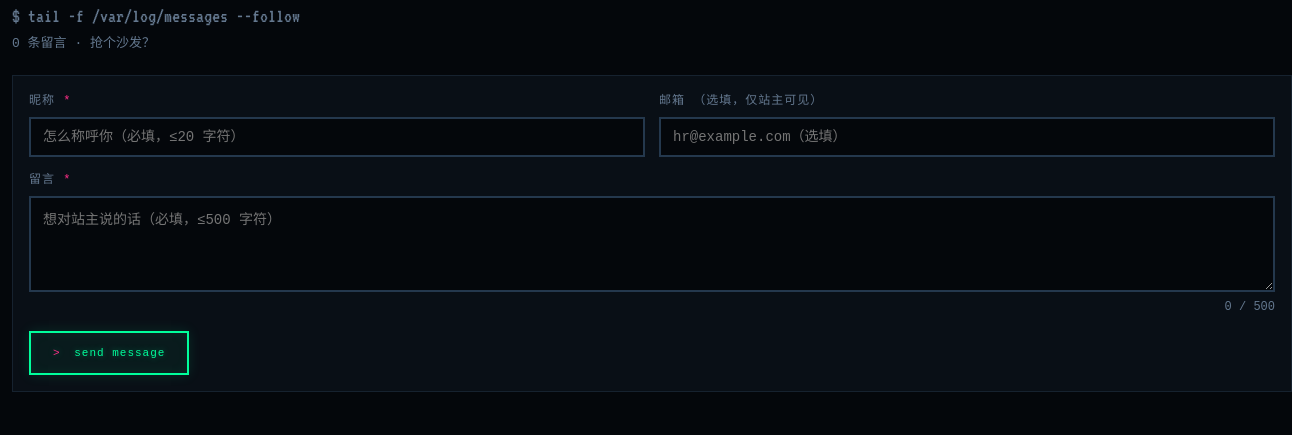
Test case: 前端预校验（后端 400 双保险的前一道闸） › 内容为空提交：字段错误提示且不调提交接口
Type "访客" into the field named "nickname" at (337, 137), box [29,117,645,157]
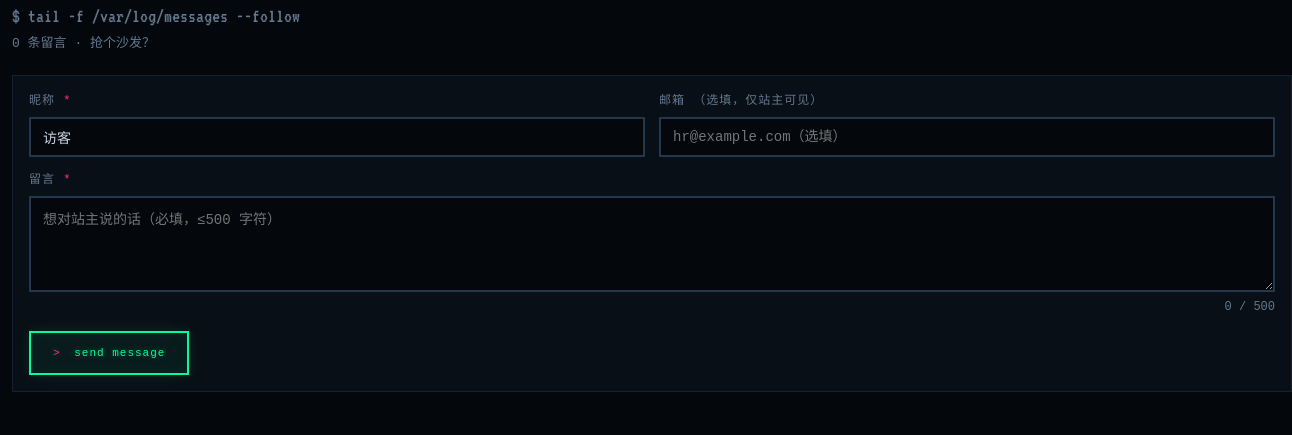
Submit the form
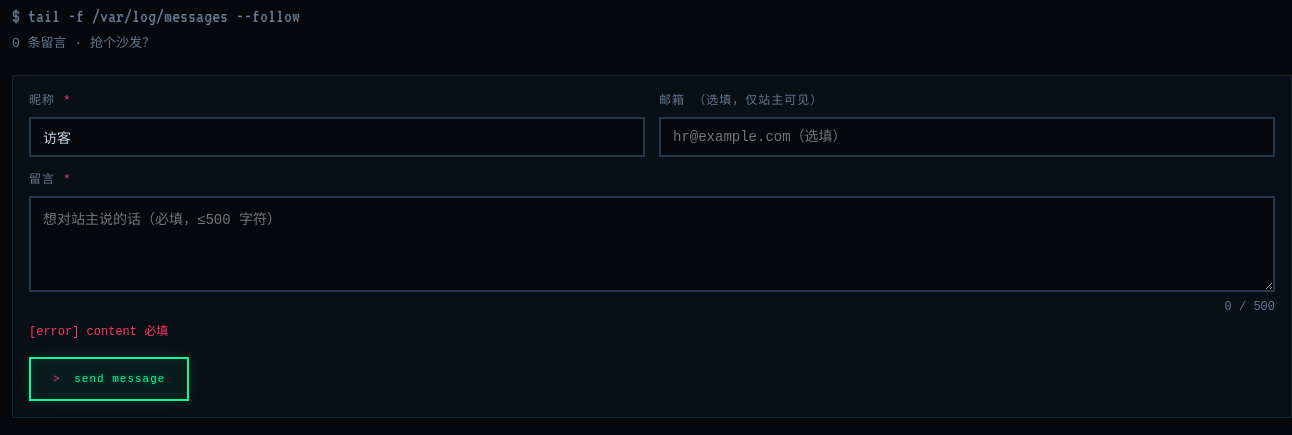
Expected: the text "content 必填" is shown, [29,325,168,339]
